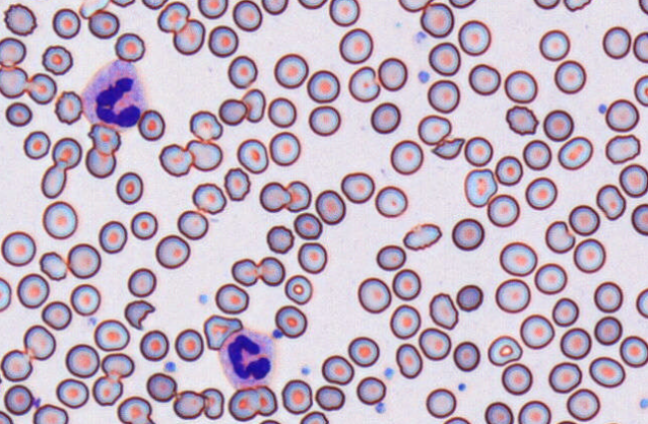GRAN: (82, 59, 147, 131), (219, 325, 278, 389)
PLT: (416, 69, 432, 85), (383, 366, 396, 382), (164, 361, 178, 374), (198, 292, 210, 305), (301, 364, 313, 376), (598, 101, 608, 115), (376, 401, 387, 413), (458, 381, 469, 393), (640, 397, 648, 409)
RBC: (42, 200, 77, 239), (499, 241, 537, 276), (463, 168, 497, 207), (0, 230, 36, 266), (494, 278, 530, 313), (557, 135, 593, 170), (338, 27, 373, 63), (457, 19, 491, 56), (155, 234, 190, 269), (519, 314, 554, 349), (273, 53, 308, 88), (357, 277, 391, 313), (172, 18, 205, 55), (65, 343, 99, 378), (67, 243, 101, 278), (420, 2, 454, 37), (16, 272, 49, 308), (23, 324, 56, 360), (93, 319, 130, 351), (348, 65, 380, 102), (3, 2, 37, 36), (306, 69, 340, 103), (605, 98, 639, 132), (390, 139, 423, 174), (186, 139, 222, 171), (588, 356, 625, 387), (158, 143, 192, 176), (274, 304, 307, 338), (566, 388, 600, 421), (486, 193, 519, 227), (504, 69, 537, 103), (191, 182, 226, 214), (389, 304, 421, 339), (236, 138, 268, 173), (573, 238, 605, 273), (428, 41, 460, 76), (554, 59, 586, 94), (402, 222, 441, 250), (418, 327, 451, 360), (451, 217, 484, 250), (548, 361, 582, 393), (340, 171, 374, 203), (427, 79, 459, 113), (214, 283, 249, 314), (281, 379, 312, 414), (605, 133, 640, 164), (269, 131, 300, 166), (525, 176, 557, 209), (374, 185, 407, 217), (534, 262, 567, 294), (228, 387, 259, 421), (417, 114, 451, 145), (315, 189, 345, 224), (25, 72, 57, 104), (0, 349, 32, 381), (559, 327, 591, 359), (468, 63, 500, 95), (189, 110, 222, 141), (321, 354, 354, 385), (501, 362, 532, 395), (505, 104, 538, 135), (55, 378, 89, 408), (377, 57, 407, 91), (88, 123, 120, 154), (157, 1, 189, 32), (41, 44, 73, 75), (347, 336, 379, 367), (568, 204, 600, 235), (207, 25, 238, 57), (542, 109, 573, 141), (308, 105, 340, 136), (539, 29, 570, 61), (52, 136, 82, 169), (70, 283, 100, 316), (227, 55, 257, 88), (602, 25, 631, 59), (117, 395, 152, 423), (85, 147, 116, 178), (259, 181, 290, 212), (92, 375, 123, 406), (425, 387, 456, 418), (172, 389, 204, 419), (297, 241, 327, 273), (139, 329, 169, 361), (370, 101, 400, 133), (98, 220, 127, 253), (174, 328, 203, 361), (54, 90, 82, 124), (619, 163, 647, 197), (395, 343, 422, 378), (177, 209, 208, 239), (146, 372, 177, 402), (3, 384, 33, 415), (41, 300, 72, 330), (114, 32, 145, 62), (232, 0, 262, 31), (593, 281, 623, 312), (392, 268, 421, 300), (115, 171, 143, 204), (223, 167, 250, 201), (40, 163, 66, 198), (88, 10, 119, 39), (522, 139, 551, 170), (464, 135, 493, 166), (267, 96, 296, 127), (619, 335, 647, 367), (137, 109, 165, 141), (101, 352, 134, 379), (127, 267, 156, 297), (494, 155, 523, 185), (356, 376, 386, 405), (0, 66, 27, 98), (257, 256, 285, 286), (284, 274, 312, 304), (52, 8, 80, 38), (594, 315, 622, 345), (453, 340, 480, 371), (39, 251, 67, 280), (266, 225, 294, 254), (551, 297, 579, 326), (130, 210, 157, 240), (285, 180, 311, 211), (0, 36, 26, 67), (314, 384, 345, 410), (328, 0, 359, 26), (23, 130, 50, 159), (218, 98, 247, 125), (293, 212, 322, 239), (517, 400, 551, 423), (376, 244, 406, 270), (200, 387, 224, 419), (231, 258, 258, 286), (456, 284, 483, 311), (32, 403, 68, 423), (5, 101, 32, 126), (256, 385, 277, 416), (484, 401, 513, 423), (197, 0, 228, 19), (78, 0, 109, 18), (631, 203, 647, 235), (633, 31, 647, 62), (634, 74, 647, 106), (398, 0, 432, 12), (261, 0, 288, 15), (0, 276, 11, 311), (299, 410, 328, 423), (635, 287, 647, 318), (563, 0, 591, 11), (297, 0, 327, 9), (141, 0, 167, 9), (533, 0, 559, 9), (448, 0, 476, 8), (443, 416, 470, 423), (110, 0, 135, 7), (0, 410, 13, 423), (638, 0, 648, 14), (258, 418, 281, 423), (554, 419, 578, 423)
Schistocyte: (202, 314, 244, 351), (428, 292, 460, 330), (596, 184, 627, 221), (487, 335, 523, 366), (545, 220, 576, 254), (123, 299, 156, 330), (242, 88, 266, 124), (431, 137, 466, 160)
